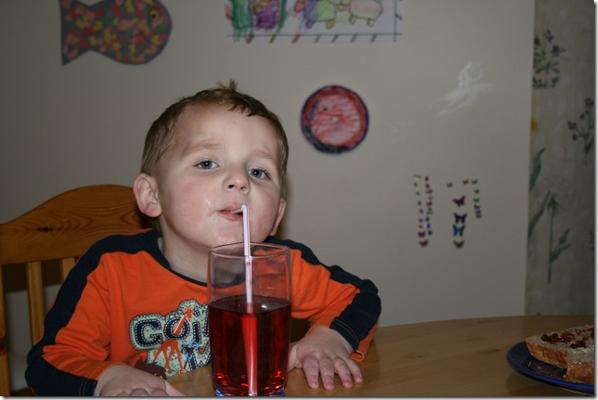person: (23, 76, 381, 394)
